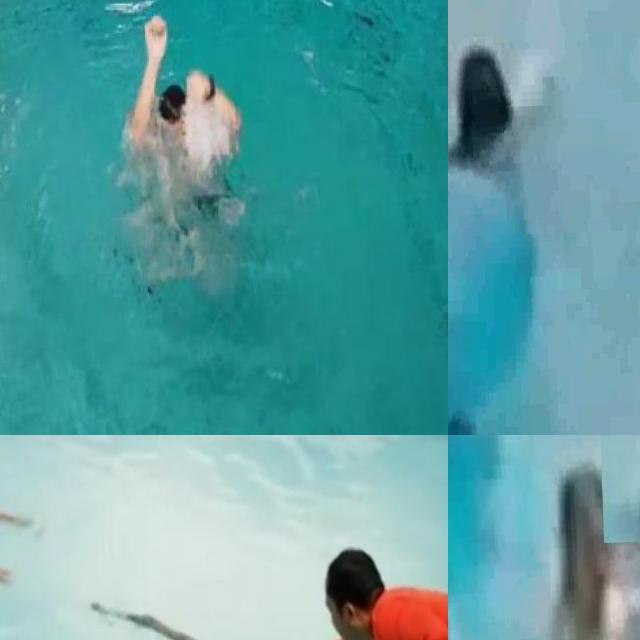drowning: (120, 10, 246, 204), (448, 16, 576, 196), (597, 435, 640, 543)
out of water: (237, 505, 448, 640)
swimming: (525, 461, 640, 640)
